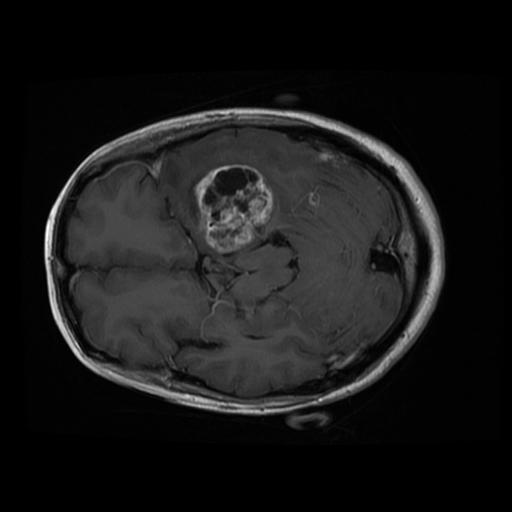glioma: (188, 164, 274, 253)
